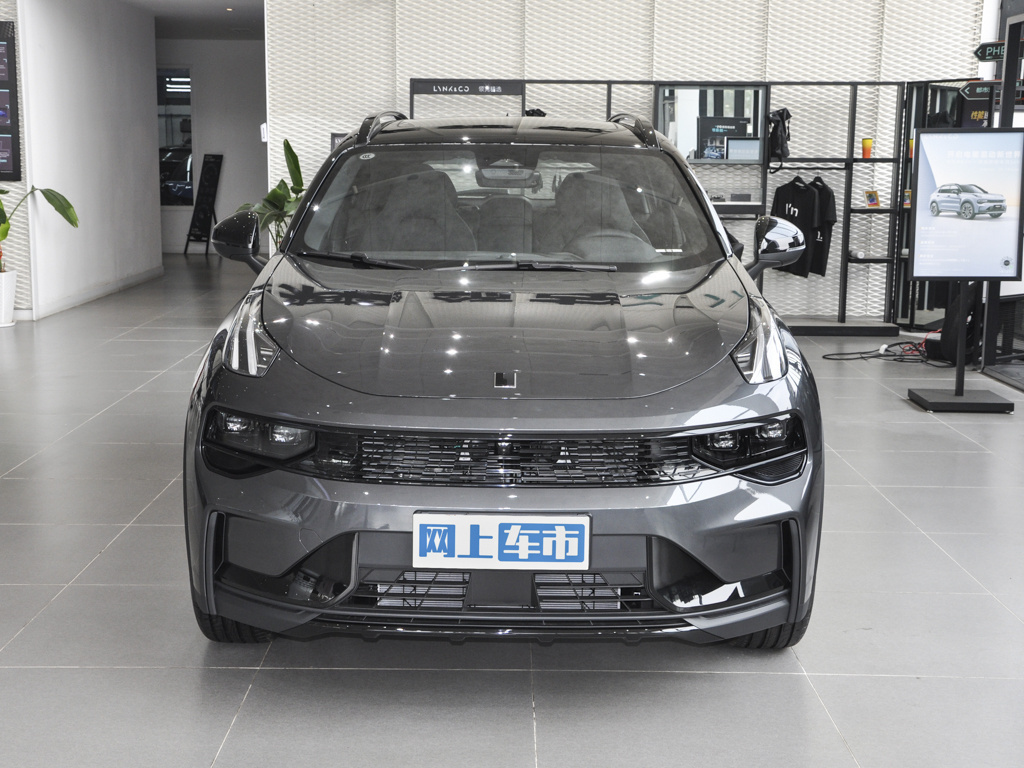LINK&CO: (496, 372, 514, 386)
